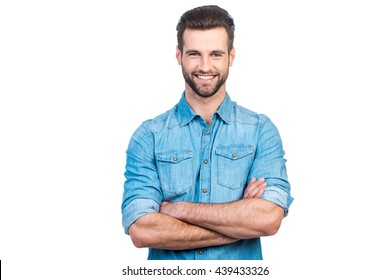Without Helmet: (171, 1, 241, 101)
